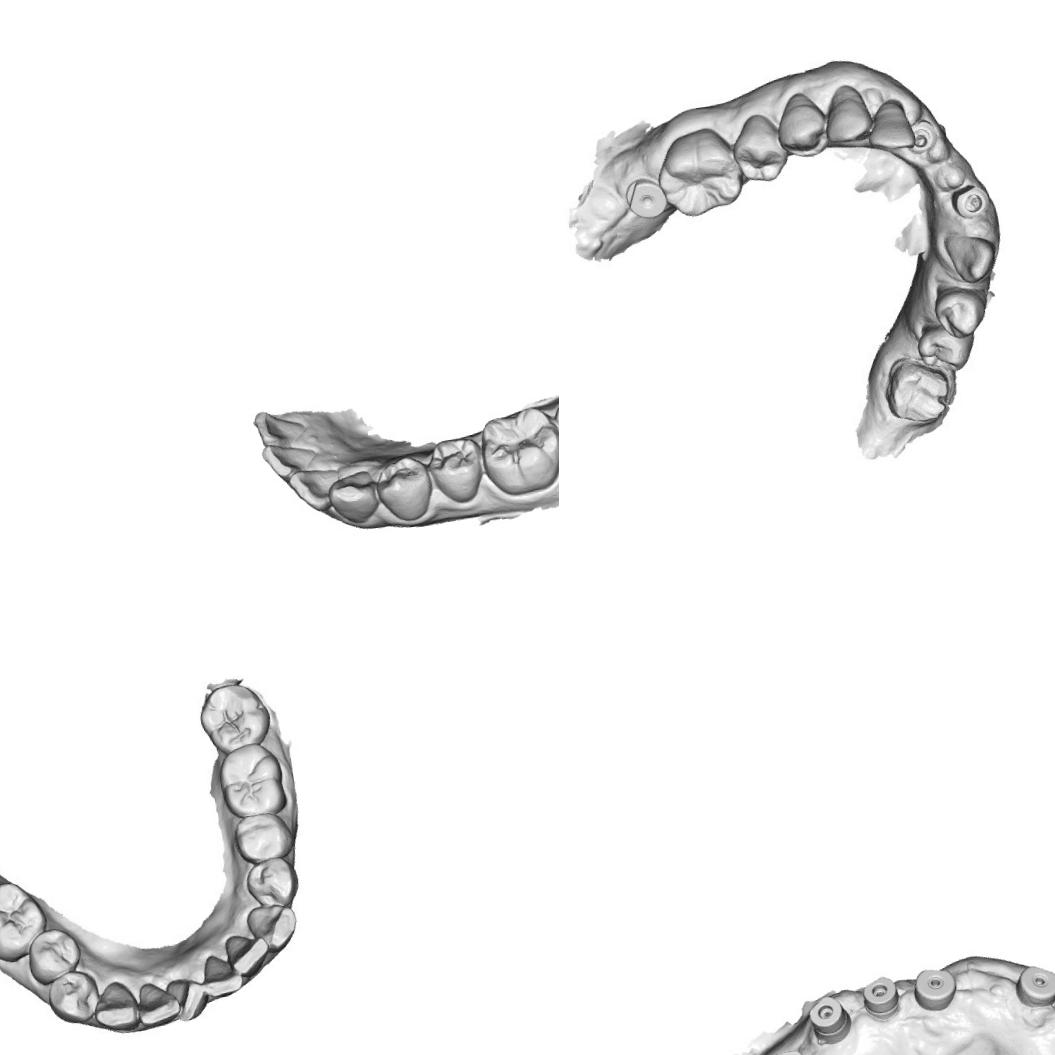canine: (324, 467, 383, 529), (243, 896, 303, 956), (820, 84, 873, 148), (937, 230, 996, 287), (90, 976, 140, 1033)
crown: (881, 350, 959, 434)
implant: (802, 991, 856, 1045), (622, 170, 669, 220), (912, 964, 958, 1014), (949, 176, 993, 227), (1012, 961, 1055, 1009), (859, 972, 900, 1016), (905, 120, 941, 158), (768, 1045, 816, 1055)
incisor: (862, 98, 920, 154), (286, 463, 342, 517), (259, 438, 322, 484), (250, 404, 310, 450), (195, 949, 246, 1002), (222, 929, 272, 983), (134, 978, 181, 1028), (167, 977, 208, 1024)
molar: (654, 122, 749, 222), (474, 400, 559, 501), (213, 739, 293, 822), (195, 679, 273, 761), (0, 878, 48, 968)
premolar: (370, 451, 439, 526), (422, 433, 490, 509), (725, 110, 790, 186), (22, 922, 84, 988), (231, 808, 297, 866), (44, 964, 103, 1027), (240, 855, 303, 911), (911, 320, 974, 375), (932, 283, 994, 338), (780, 90, 828, 158)
